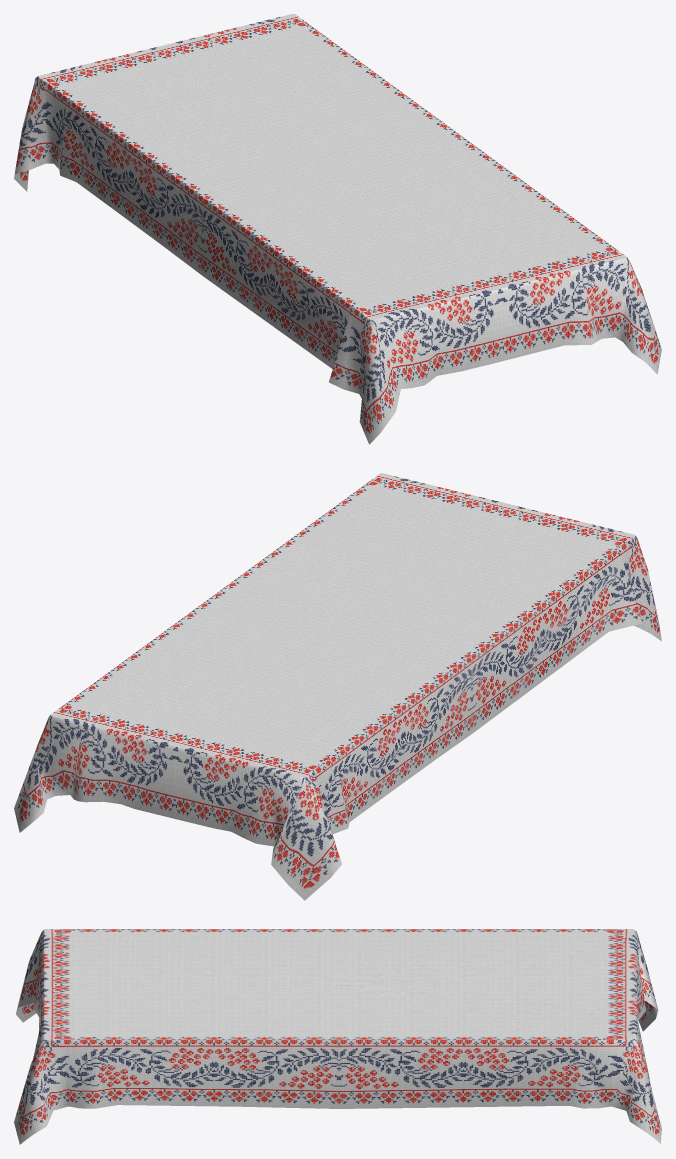
File: Cloth 2 Lowpoly.FBX
3 renders of one model, top to bottom at view 1: azimuth 30°, elevation 25°; view 2: azimuth 150°, elevation 25°; view 3: azimuth 270°, elevation 25°, orthographic. The views are drawn at different scales.
Parts seen in each view (by area): view 1: TableCloth 2; view 2: TableCloth 2; view 3: TableCloth 2.
Boxes of the visible parts, x1,y1,x2,y2 form: TableCloth 2: [14, 14, 661, 444]; TableCloth 2: [14, 473, 661, 900]; TableCloth 2: [14, 929, 661, 1144].
Bounding box in the file's own units: 98.19 × 35.33 × 198.
